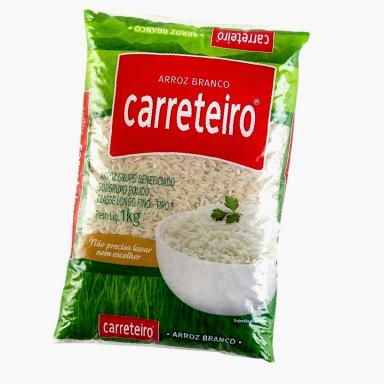rice package: (55, 11, 308, 361)
